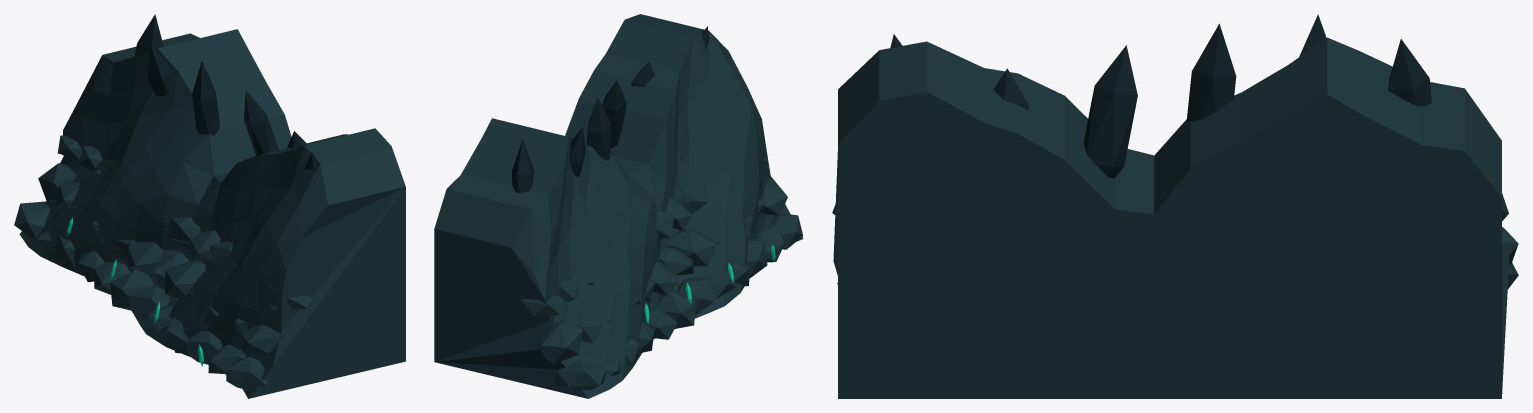
File: distant_cliff_wall.obj
3 renders of one model, left to right at view 1: azimuth 30°, elevation 25°; view 2: azimuth 150°, elevation 25°; view 3: azimuth 270°, elevation 25°, orthographic. The views are drawn at different scales.
Parts seen in each view (by area): view 1: distant_cliff_wall; view 2: distant_cliff_wall; view 3: distant_cliff_wall.
Boxes of the visible parts, x1,y1,x2,y2 form: distant_cliff_wall: [14, 14, 405, 398]; distant_cliff_wall: [434, 14, 803, 398]; distant_cliff_wall: [832, 14, 1518, 398].
Size of the model in its own units: 129 by 168 by 313.
